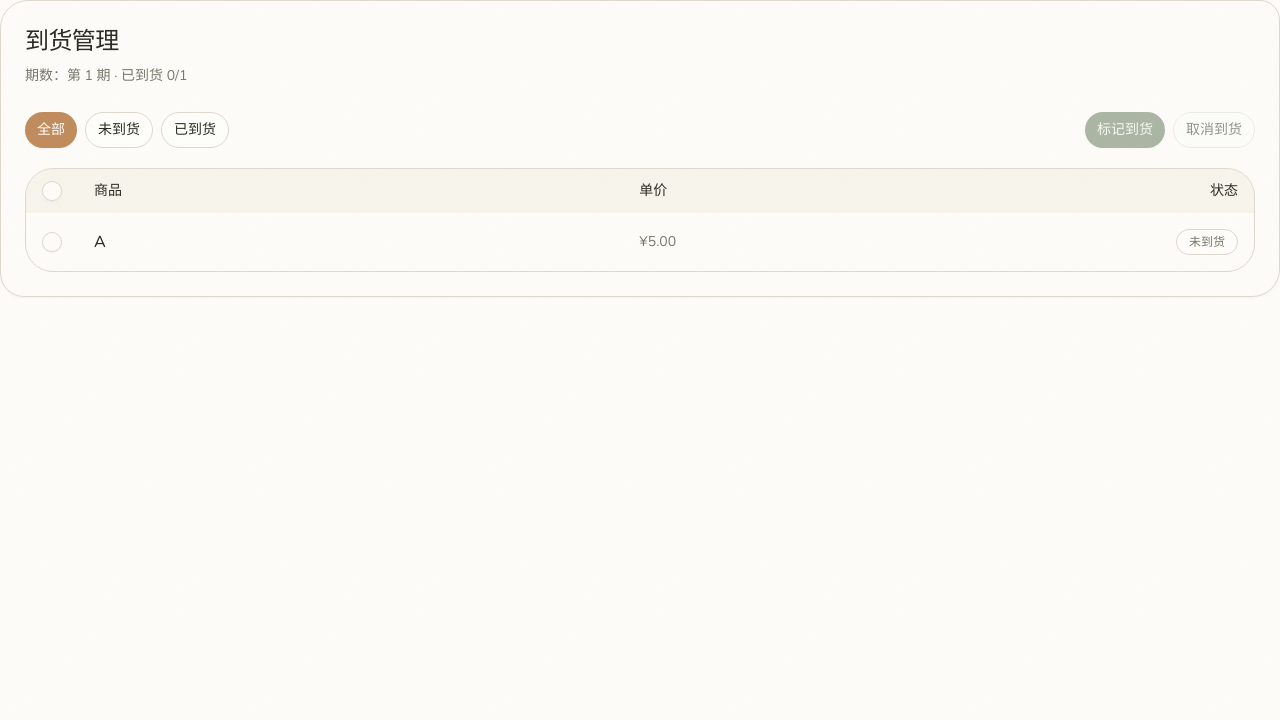
Test: ArrivalManager shows error toast on failed update
Click the checkbox named "Select A" at [52, 242], box [42, 232, 62, 252]
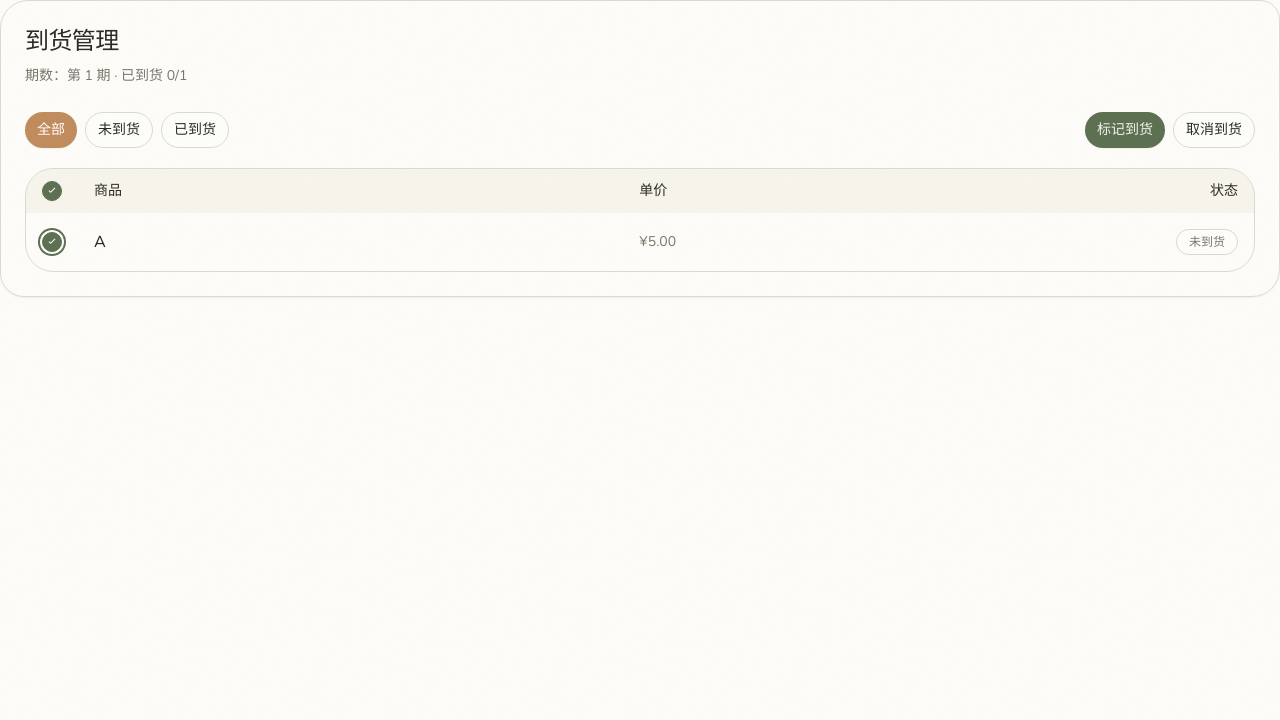
Click the button "标记到货" at [1125, 130], box [1085, 112, 1165, 148]
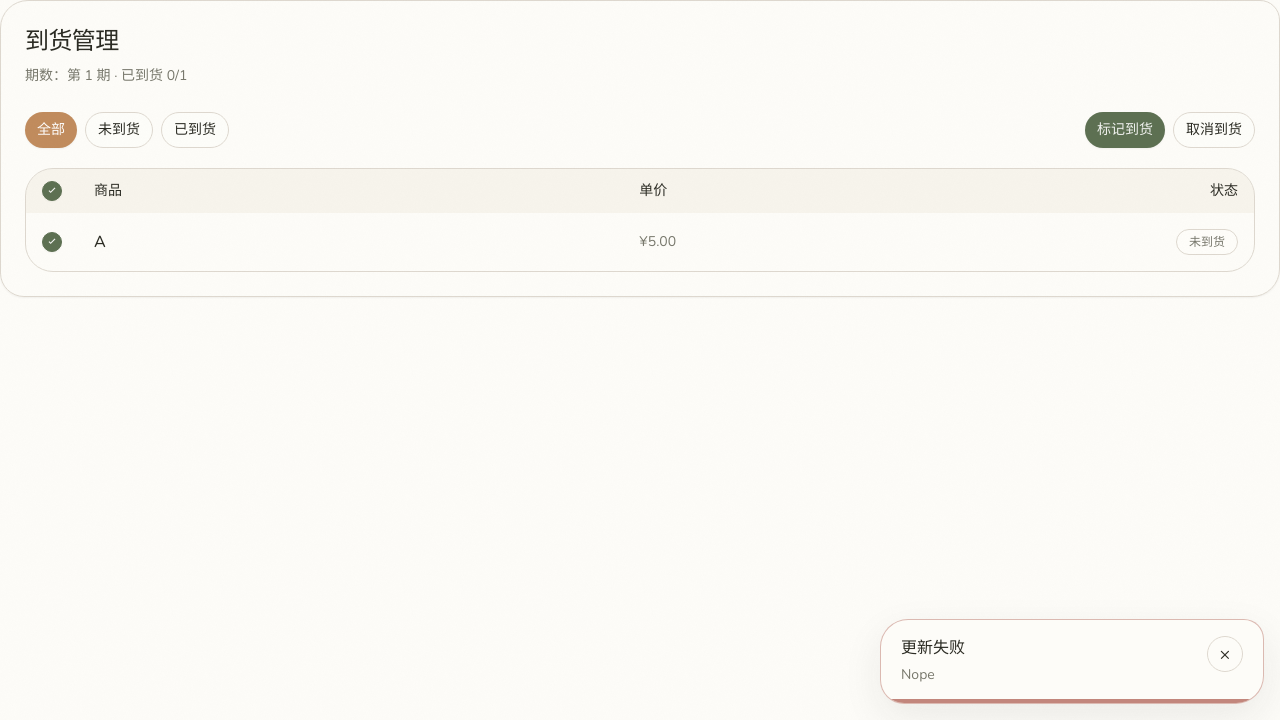
Expected: the text "更新失败" is shown, [901, 637, 965, 659]
Expected: the text "Nope" is shown, [901, 665, 935, 684]
